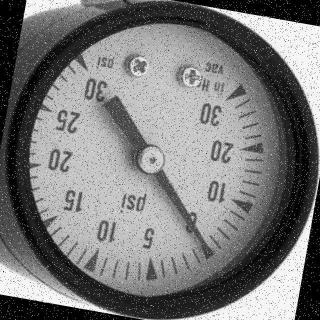gauge: (0, 0, 320, 320), (192, 72, 254, 136), (60, 32, 116, 100), (133, 141, 169, 178), (194, 237, 220, 262)
